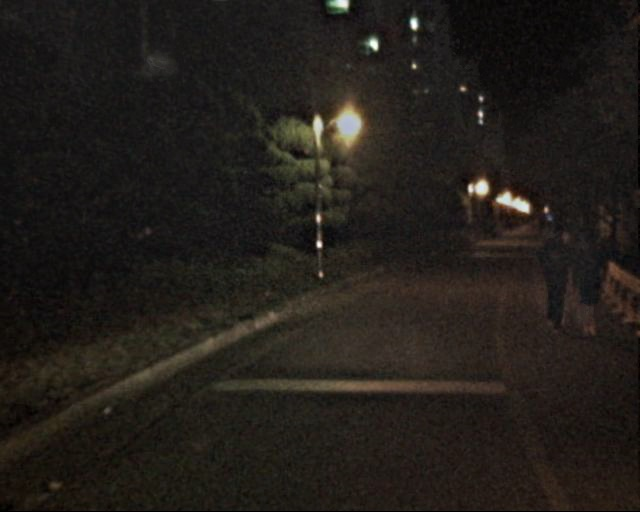person: (527, 230, 573, 343), (560, 231, 604, 339)
